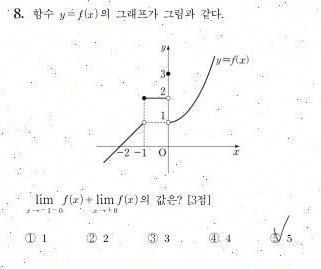choice: (269, 227, 283, 244)
not-choice: (23, 231, 37, 244), (85, 231, 98, 244), (145, 231, 158, 244), (207, 232, 220, 244)
